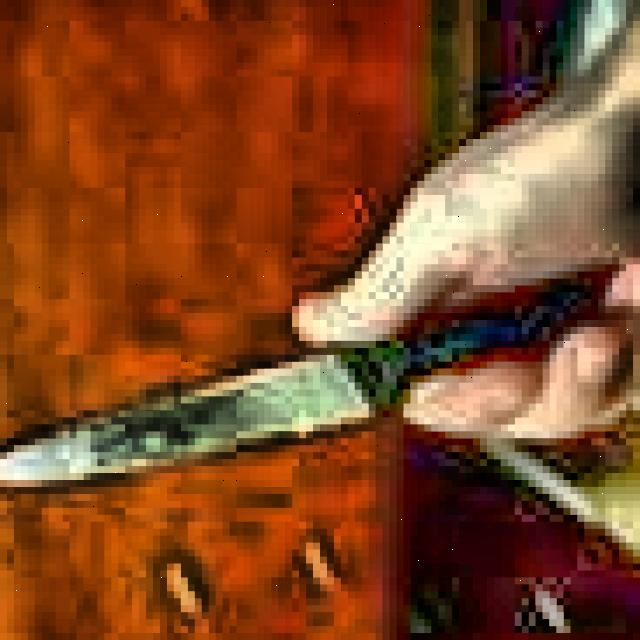knife: (0, 264, 612, 487)
